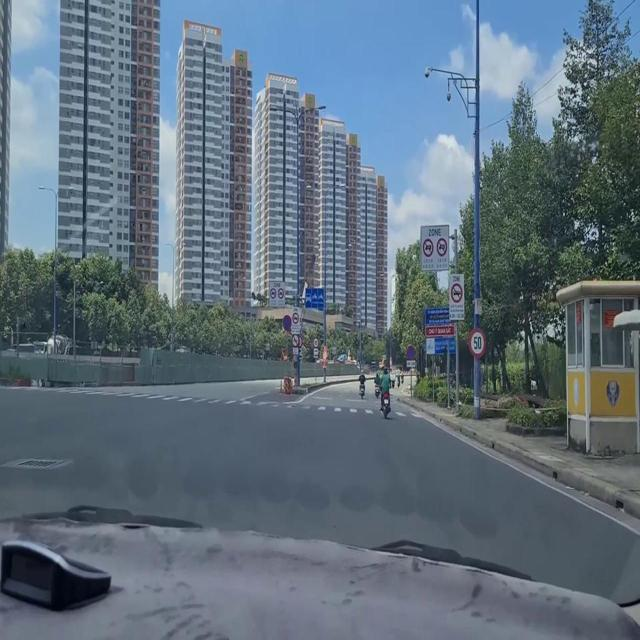Cấm các phương tiện hoạt động trong khung giờ cố định: (417, 220, 448, 270), (447, 273, 465, 317), (266, 277, 287, 307), (291, 305, 300, 331)
Cấm dừng - Cấm đỗ: (281, 312, 291, 331), (405, 343, 415, 359)
Cấm xe máy: (290, 331, 299, 346)
Giới hạn tốc độ: 50Km/h: (467, 321, 487, 361)
Khác: (423, 298, 456, 356)
Làn đường cho từng xe: (303, 283, 324, 311)
